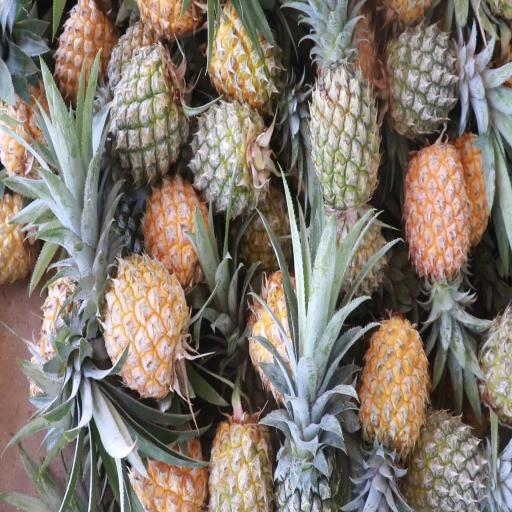Pineapple - v8 v1: (103, 250, 194, 407), (360, 308, 431, 459), (403, 137, 471, 289), (145, 183, 221, 302), (206, 4, 283, 116), (55, 5, 121, 128), (208, 416, 278, 512)
